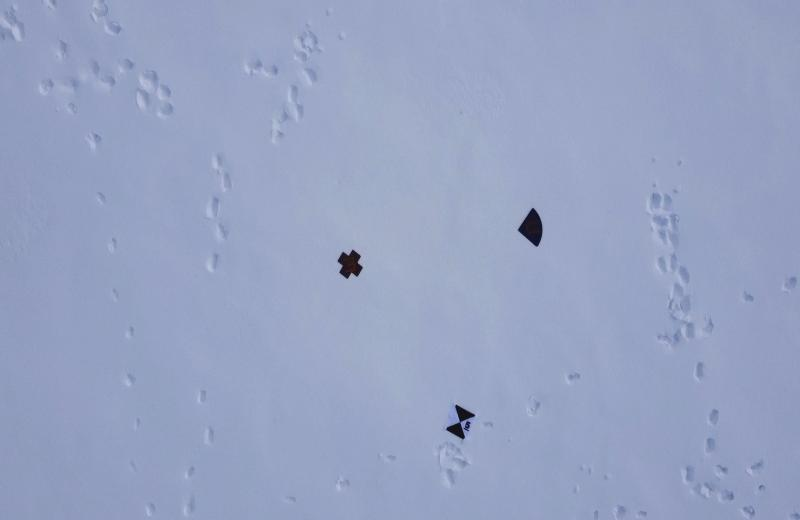Cross: (334, 246, 365, 280)
Quarter Circle: (515, 204, 545, 248)
